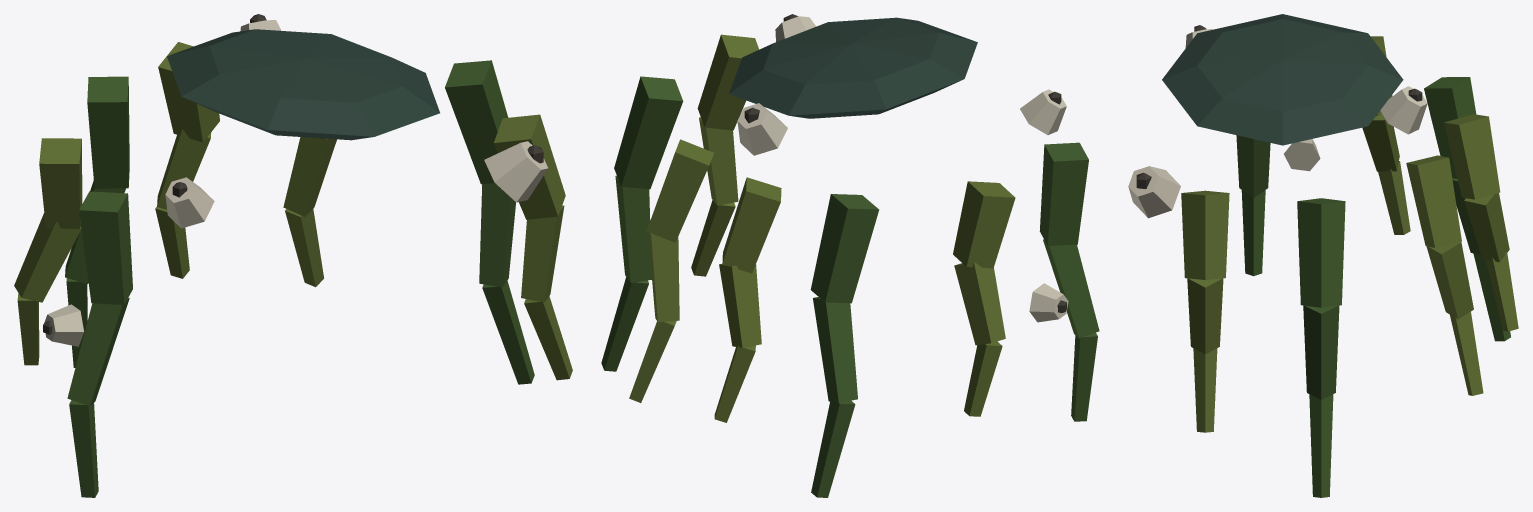
File: drowned_head.glb
The picture shows the model from 3 angles, left to right: view 1: azimuth 30°, elevation 25°; view 2: azimuth 150°, elevation 25°; view 3: azimuth 270°, elevation 25°; orthographic projection. The views are drawn at different scales.
Visible parts, largest first — view 1: drowned_head; view 2: drowned_head; view 3: drowned_head.
Part boxes in pixels (x1,y1,x2,y2): drowned_head: (14, 14, 572, 497); drowned_head: (601, 14, 1099, 497); drowned_head: (1128, 14, 1518, 497).
Size of the model in its own units: 1.03 by 0.7849 by 0.808.
